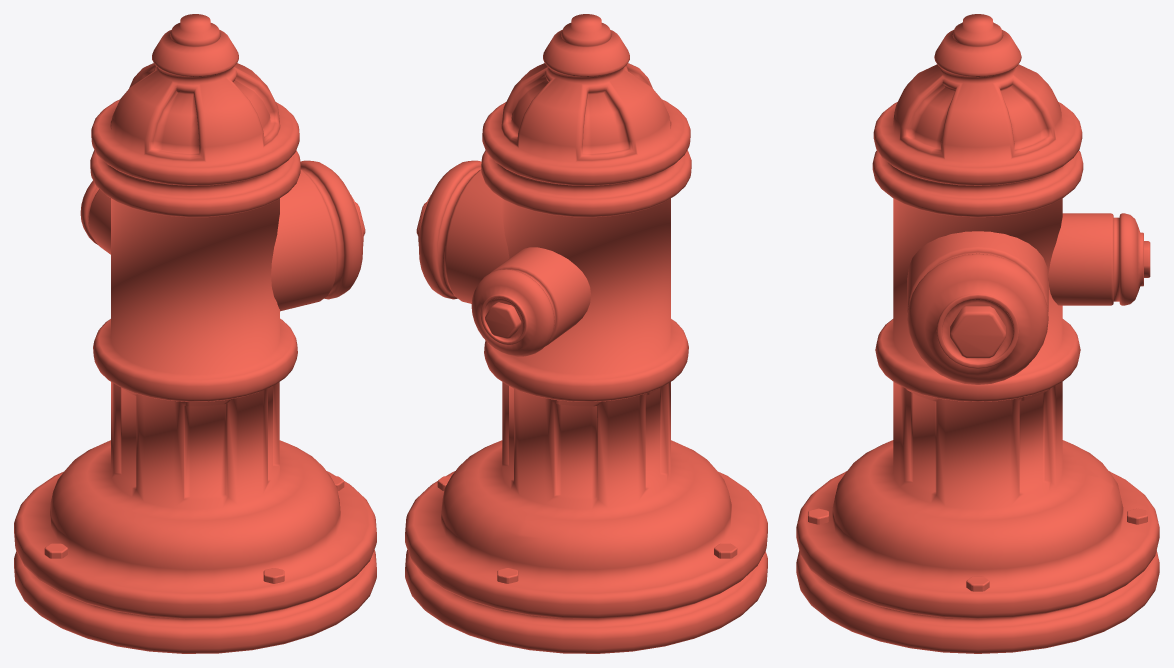
The model's file is Fireplug.fbx.
The picture shows the model from 3 angles, left to right: view 1: azimuth 30°, elevation 25°; view 2: azimuth 150°, elevation 25°; view 3: azimuth 270°, elevation 25°; orthographic projection.
Parts seen in each view (by area): view 1: Fire-Joined; view 2: Fire-Joined; view 3: Fire-Joined.
Part boxes in pixels (left/top/right/bottom): Fire-Joined: left=14, top=14, right=376, bottom=653; Fire-Joined: left=405, top=14, right=767, bottom=653; Fire-Joined: left=796, top=14, right=1159, bottom=653.
Bounding box in the file's own units: 200 × 200 × 340.
